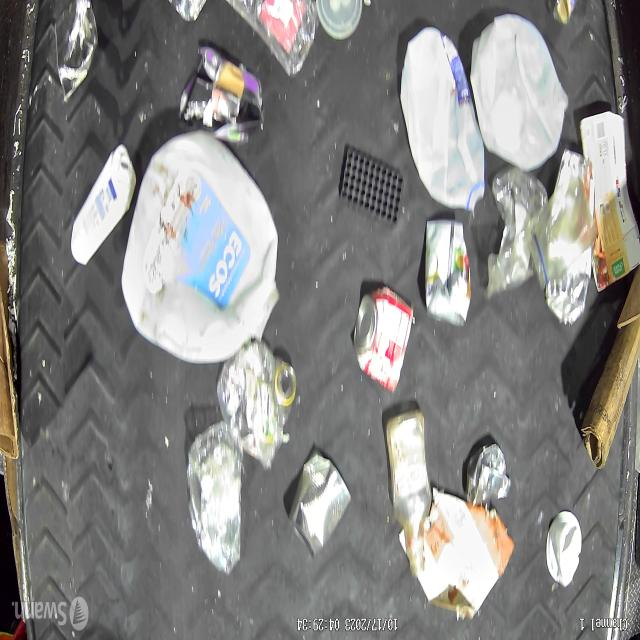can: (288, 447, 352, 558), (353, 284, 414, 393), (421, 217, 471, 329), (55, 0, 98, 103), (465, 443, 511, 506)
milk_jug: (124, 134, 279, 363), (468, 11, 568, 173), (398, 26, 485, 212)
plastic_bottle: (217, 342, 296, 469)
